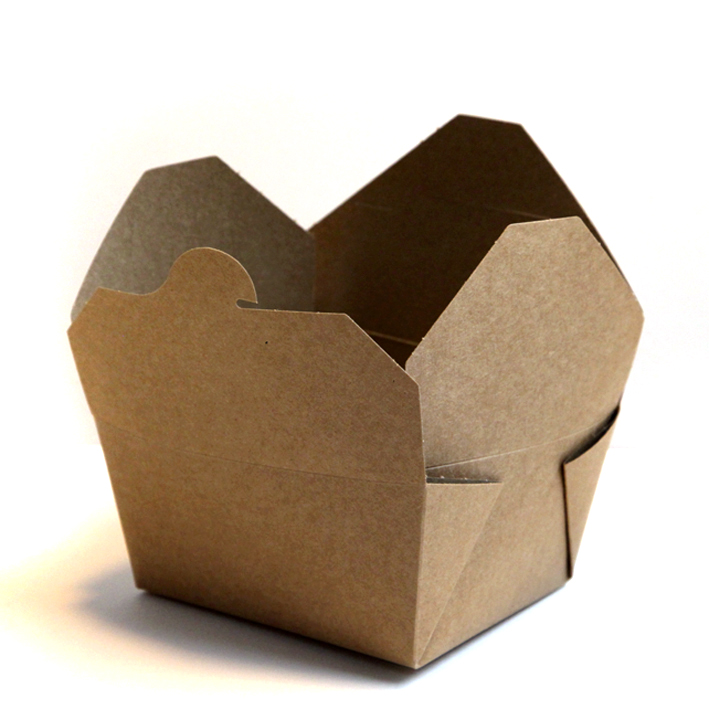Rec_Paper: (74, 103, 655, 669)
